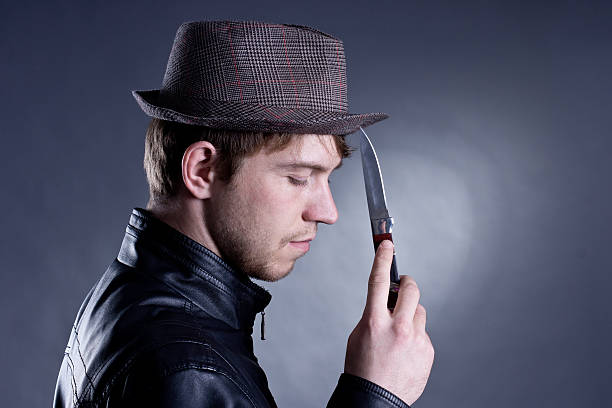knife: (357, 125, 403, 314)
